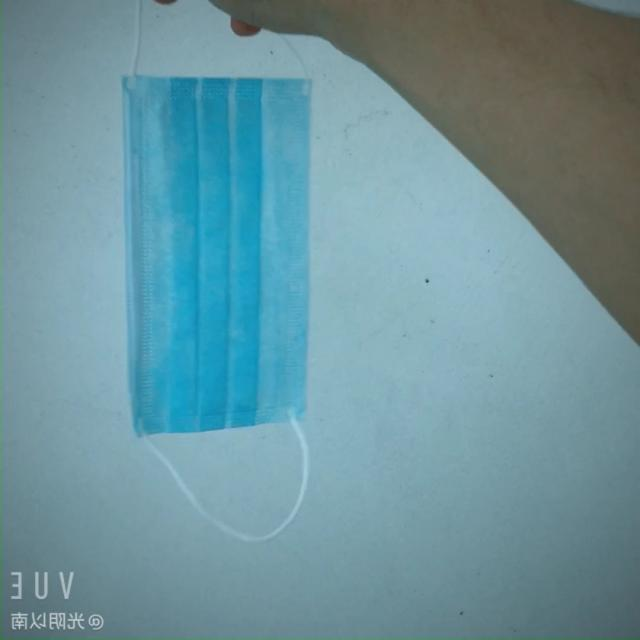face mask: (103, 59, 329, 467)
